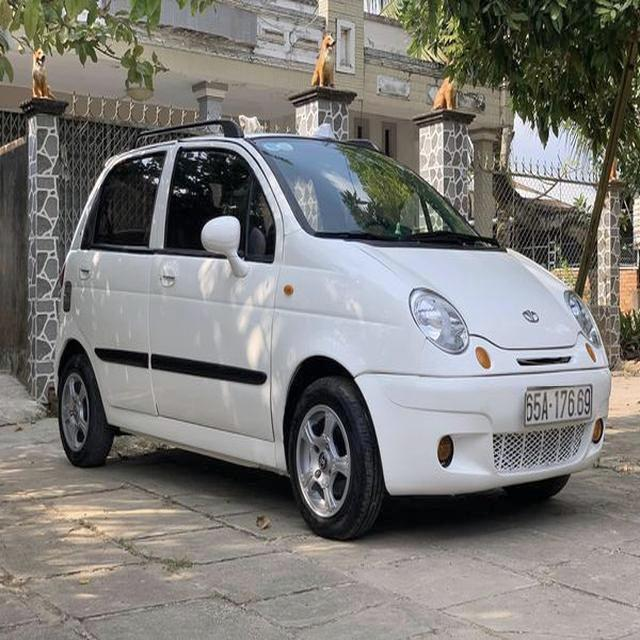car: (55, 120, 617, 547)
plate: (517, 380, 601, 429)
